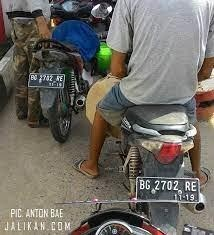plate: (138, 177, 199, 203), (28, 73, 65, 89)
